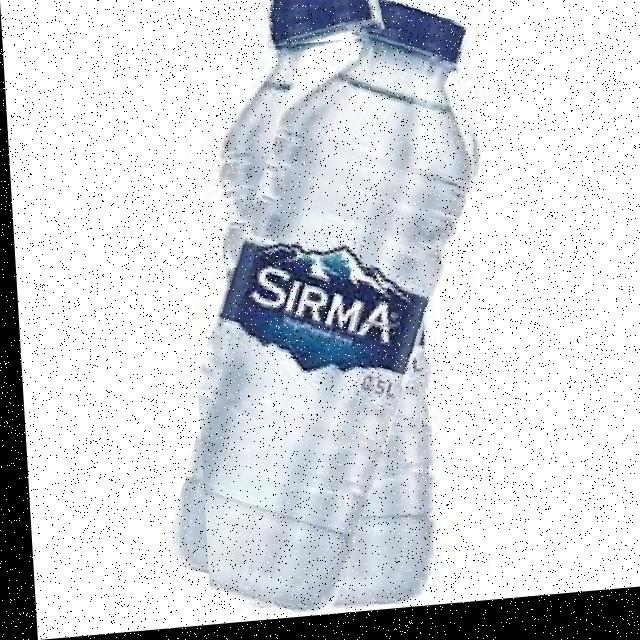plasticbottle: (174, 0, 500, 624)
plasticbottlecap: (266, 0, 385, 51)
